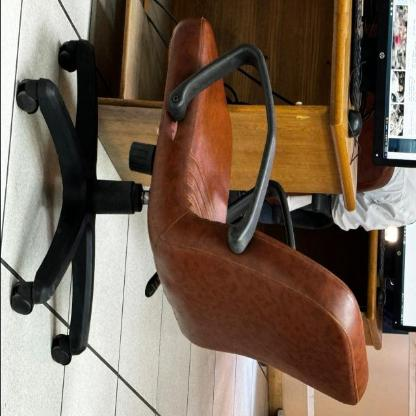chair: (5, 13, 376, 402)
